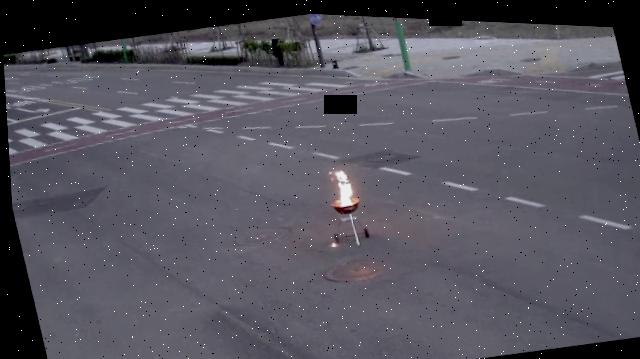fire: (326, 166, 354, 206)
